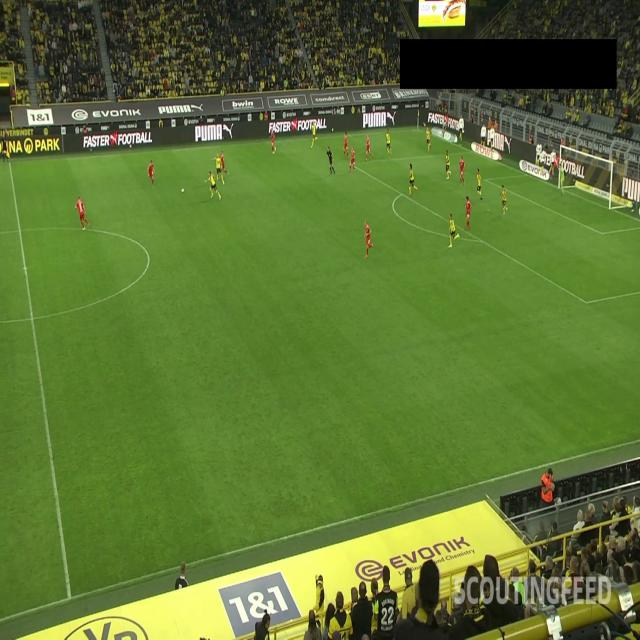ball: (181, 187, 185, 194)
goalkeeper: (558, 162, 565, 196)
player: (75, 195, 91, 230), (204, 170, 222, 200), (210, 151, 225, 186), (448, 213, 461, 248), (364, 220, 374, 258), (409, 163, 418, 197), (465, 195, 472, 230), (311, 121, 319, 149), (476, 168, 483, 199), (220, 150, 228, 177), (366, 134, 374, 161), (348, 146, 356, 173), (500, 184, 507, 214), (446, 148, 452, 180), (459, 155, 465, 187), (148, 159, 155, 186), (386, 128, 392, 155), (426, 126, 432, 152), (270, 130, 276, 153), (344, 132, 348, 158)
referee: (326, 146, 336, 175), (2, 133, 10, 163)
